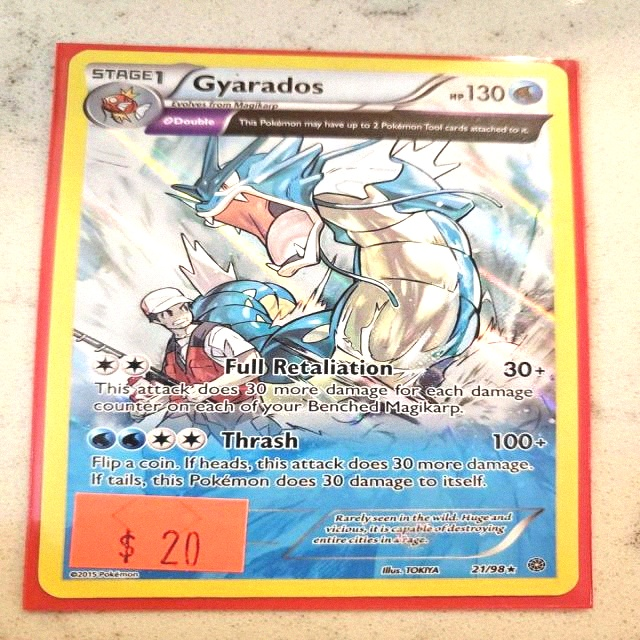card: (36, 50, 579, 600)
